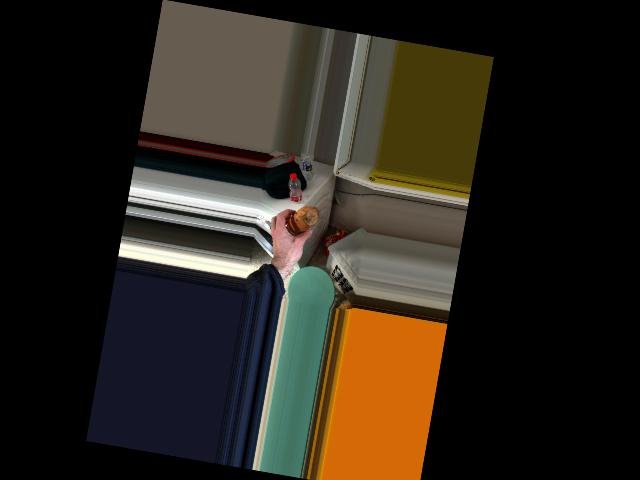sweet_potato: (284, 203, 318, 241)
